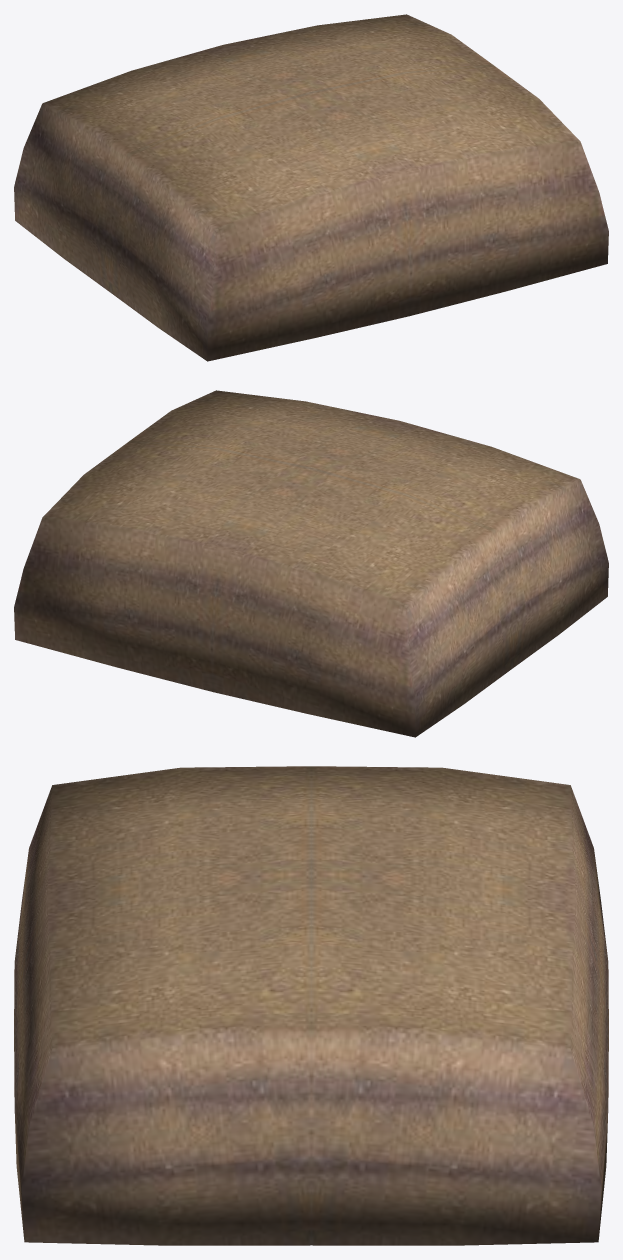
Rendered from Peat.glb.
3 views of the same model, one above another, from view 1: azimuth 30°, elevation 25°; view 2: azimuth 150°, elevation 25°; view 3: azimuth 270°, elevation 25° (orthographic). The views are drawn at different scales.
Parts seen in each view (by area): view 1: Plane.001; view 2: Plane.001; view 3: Plane.001.
Boxes of the visible parts, box(x1,y1,x2,y2) form: Plane.001: box(14, 14, 608, 361); Plane.001: box(14, 390, 608, 737); Plane.001: box(14, 766, 608, 1245).
Size of the model in its own units: 1.23 by 0.4379 by 1.04.
1 material, 1 textured.
